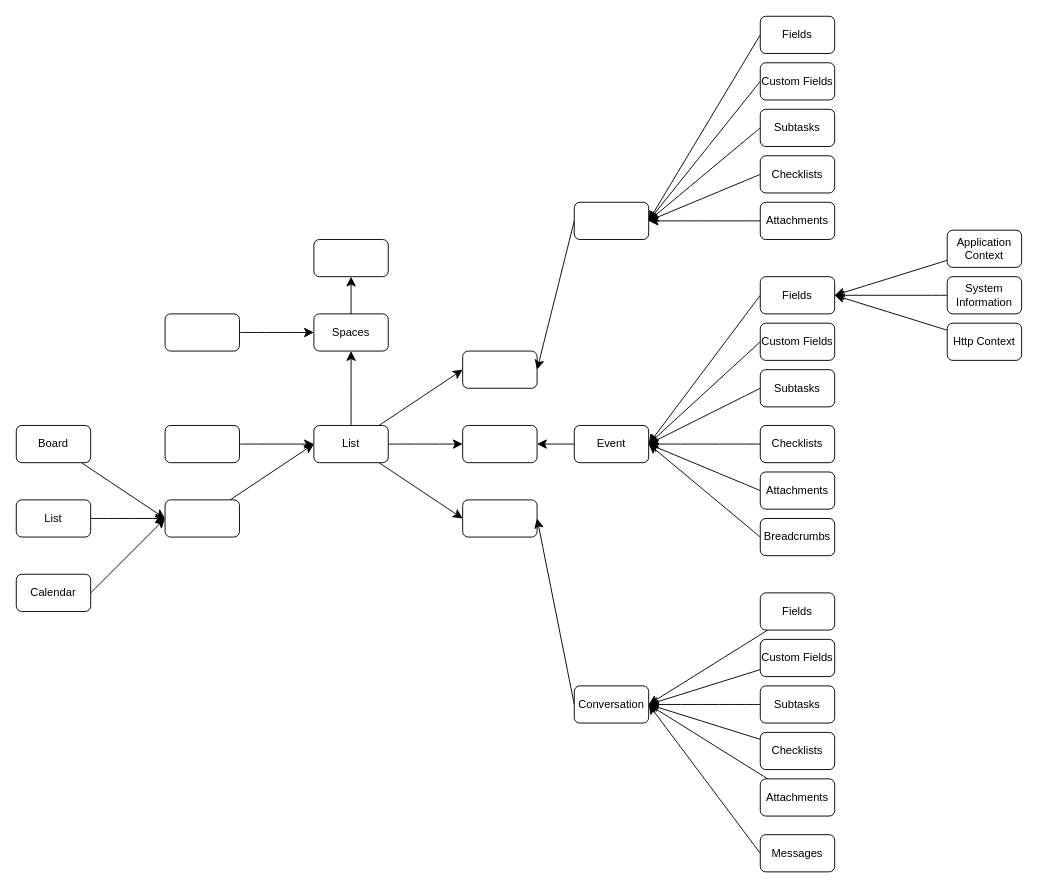
Some shapes in this 1038 by 888 pixel diagram are drawn without their labels. The shapes that lost their labels are listed below. From the top down, each one's centre as x and y in pixels, then its label:
At point (611, 220): "Task".
At point (350, 258): "Workspace".
At point (201, 332): "Custom Fields (Spaces)".
At point (499, 369): "List (Task)".
At point (201, 444): "Custom Fields (Lists)".
At point (499, 444): "List (Event)".
At point (201, 518): "Views".
At point (499, 518): "List (Conversation)".
